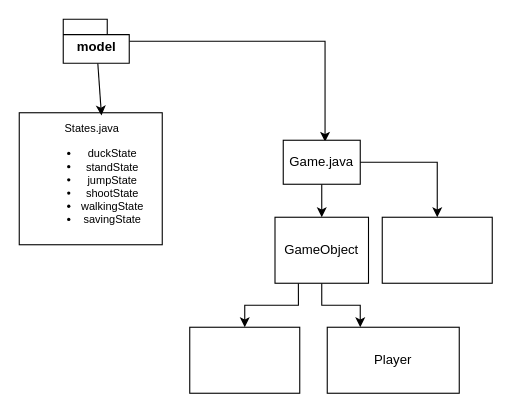
This 512x413 diagram has some shape labels left out. Here are the shapes that lost their labels. From the top down, the centre of each, then its label:
At [436,249]: "StoreObject".
At [244,359]: "Terminator".
